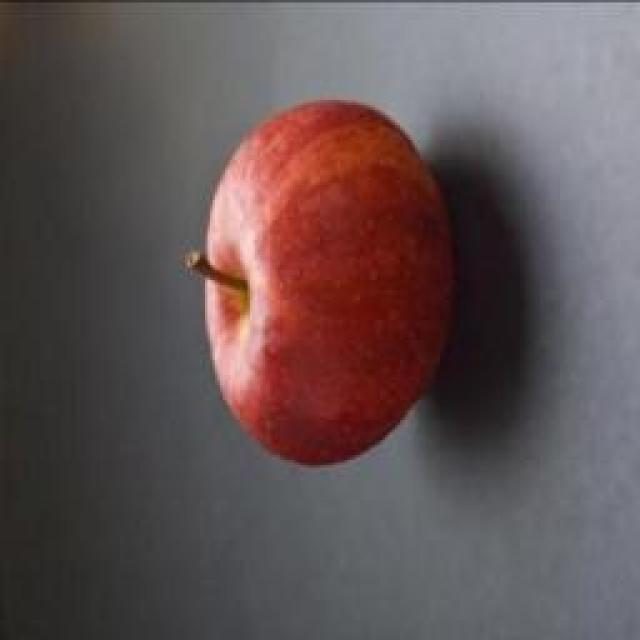Apple: (188, 101, 454, 464)
